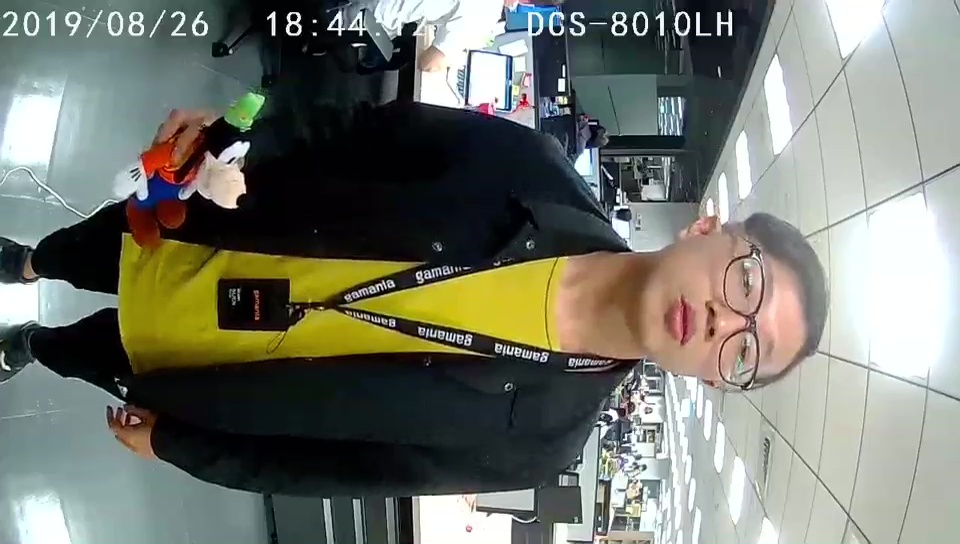goofy: (113, 89, 266, 250)
